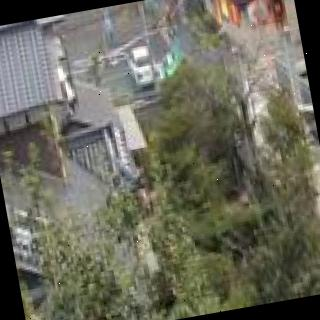fire: (207, 0, 281, 40)
